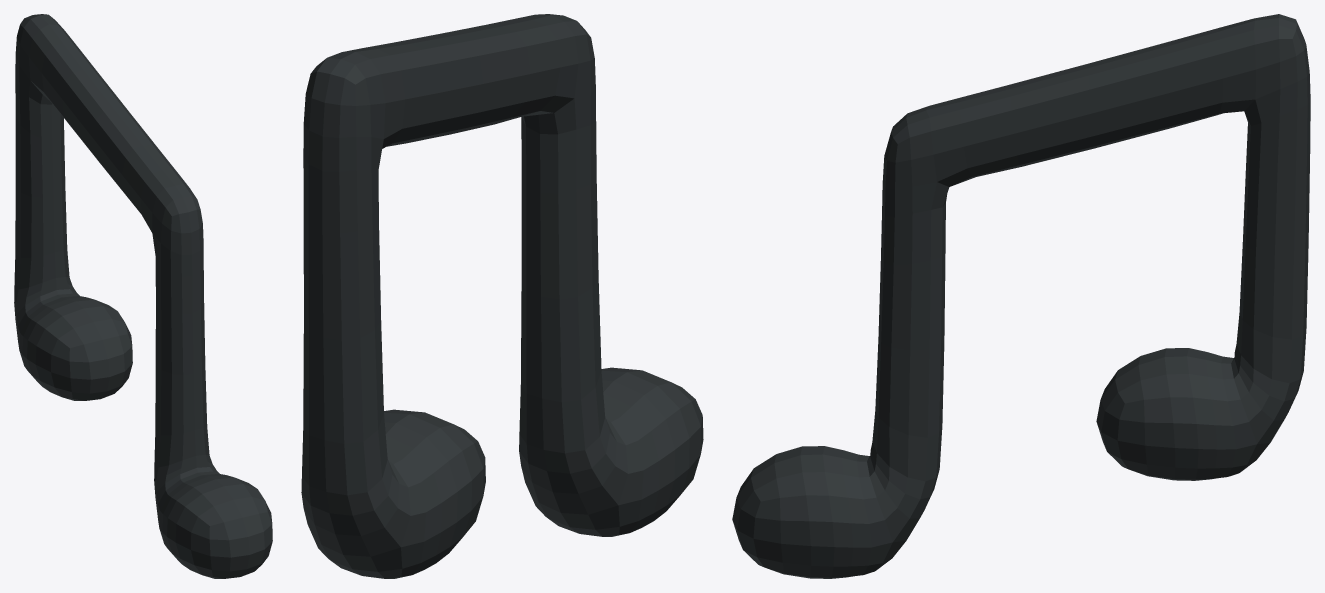
Rendered from LD51NoteParticle2.fbx.
3 renders of one model, left to right at view 1: azimuth 30°, elevation 25°; view 2: azimuth 150°, elevation 25°; view 3: azimuth 270°, elevation 25°, orthographic. The views are drawn at different scales.
Visible parts, largest first — view 1: Note_Particle2_Outline; view 2: Note_Particle2_Outline; view 3: Note_Particle2_Outline.
Part boxes in pixels (x1,y1,x2,y2): Note_Particle2_Outline: (14,14,272,578); Note_Particle2_Outline: (301,14,703,578); Note_Particle2_Outline: (732,14,1310,578).
Bounding box in the file's own units: 237 × 1038 × 1096.
